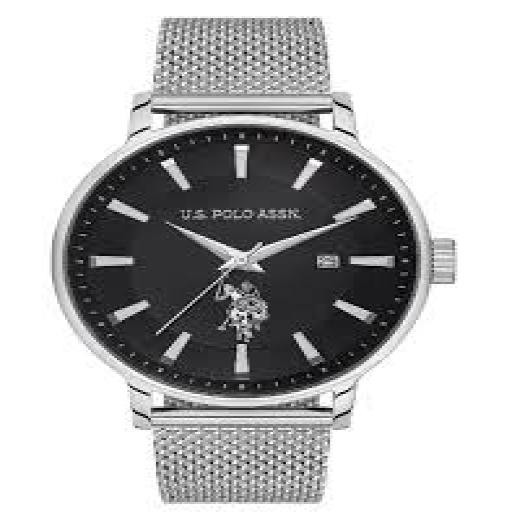KolSaati: (44, 16, 470, 508)
